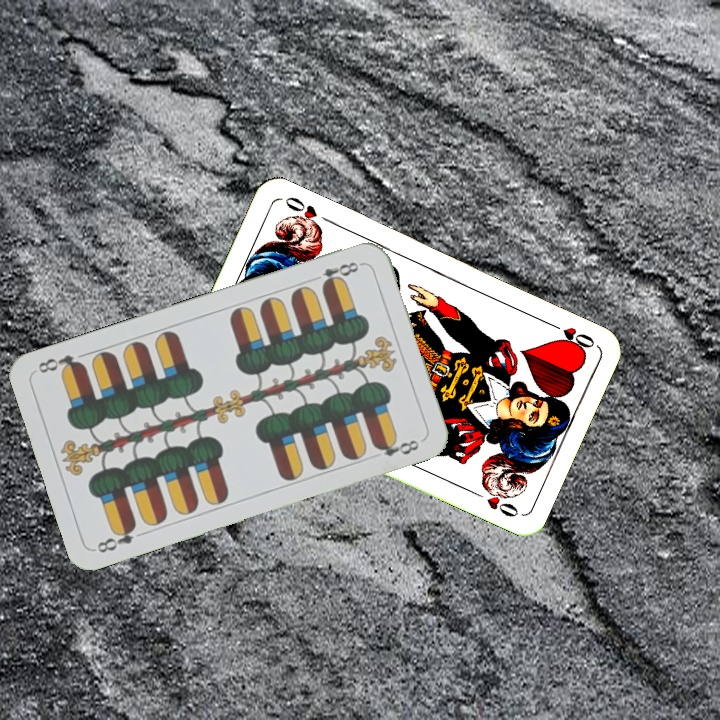E8: (307, 257, 365, 290), (93, 520, 139, 556)
HO: (542, 317, 598, 351)
